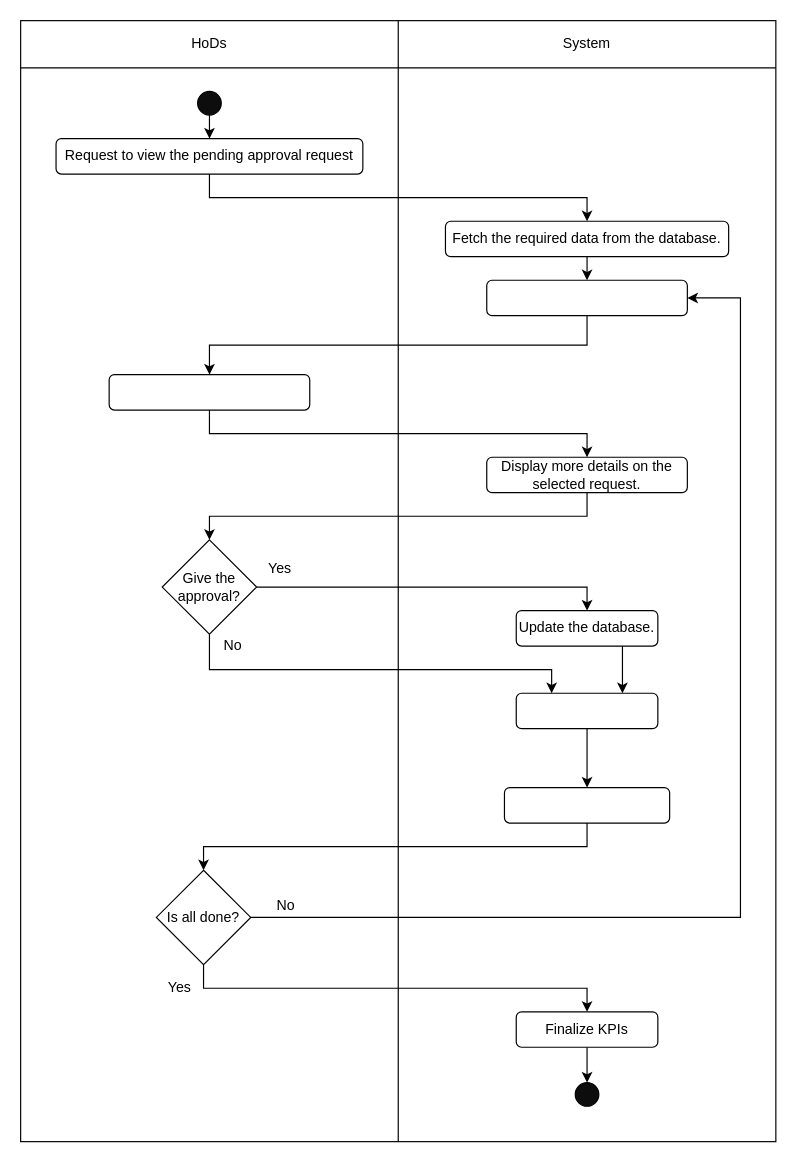
The diagram is 796 pixels wide and 1162 high, and some of its shapes have lost their labels. Each missing label, with the box of its shape:
Ask whether all is done.: (503, 786, 670, 823)
Display the pending request.: (486, 279, 687, 316)
Notify the HoD.: (515, 692, 658, 729)
Select the request.: (108, 373, 310, 410)
